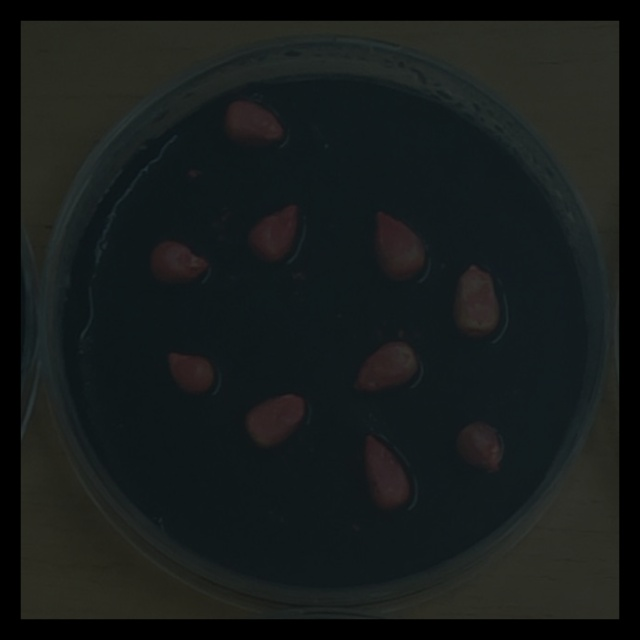Zea mays: (364, 202, 433, 291), (357, 425, 420, 517), (344, 333, 426, 402), (445, 257, 507, 346), (237, 387, 312, 457), (240, 195, 307, 271), (217, 94, 291, 155), (142, 235, 214, 291), (448, 415, 509, 479), (160, 345, 222, 402)
